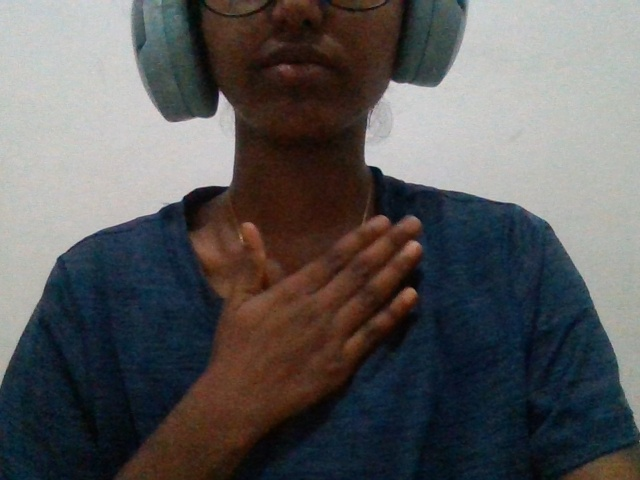Please: (184, 204, 444, 455)
